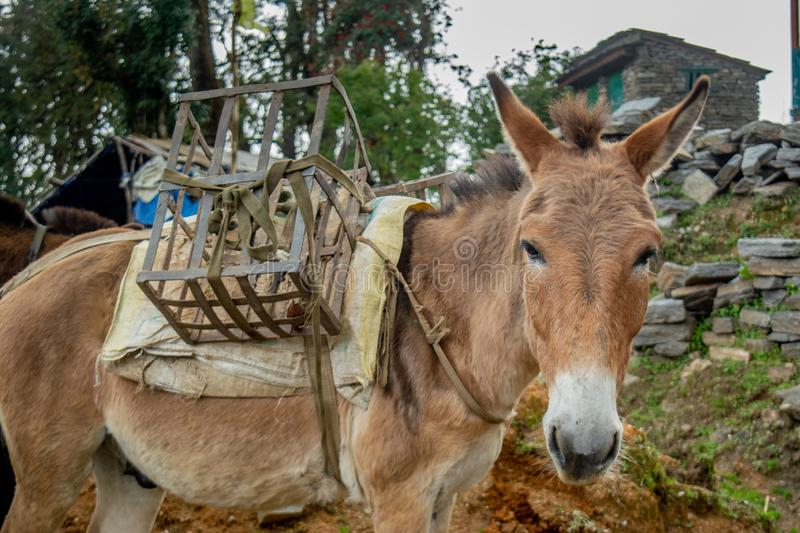equine: (1, 57, 750, 533)
